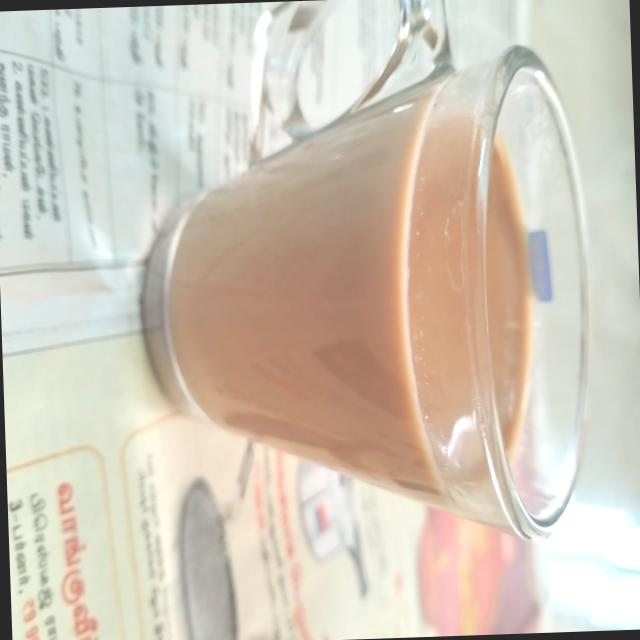glass-VX4N: (129, 0, 600, 558)
